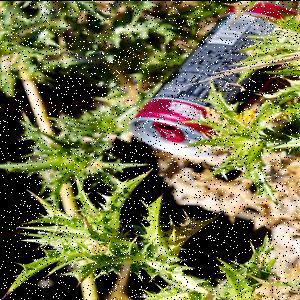Can: (128, 3, 300, 157)
